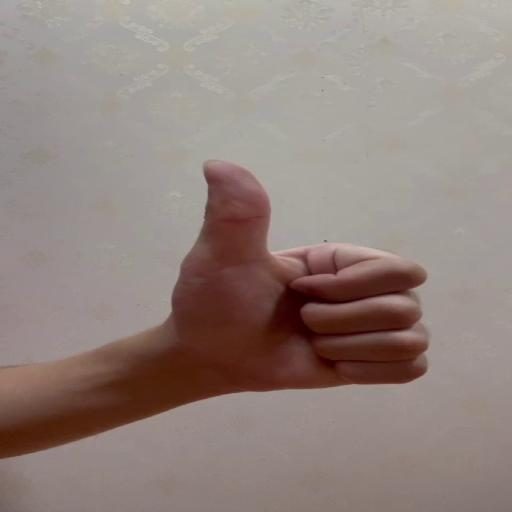thumbs_up: (172, 157, 431, 393)
